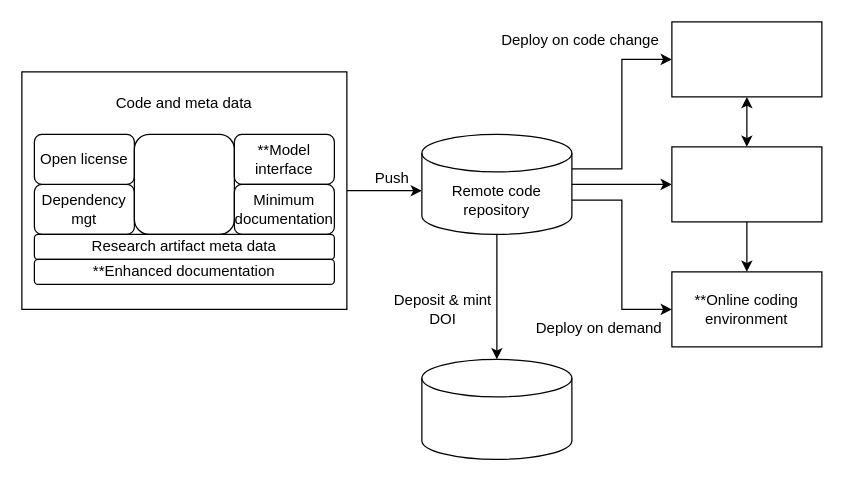
Some shapes in this 844 by 481 pixel diagram are drawn without their labels. Each missing label, with the centre of its shape:
"**Hosted documentation" goes at point (746, 184).
"**Hosted web app" goes at point (746, 59).
"Open science archive" goes at point (496, 408).
"Python Model" goes at point (183, 183).
